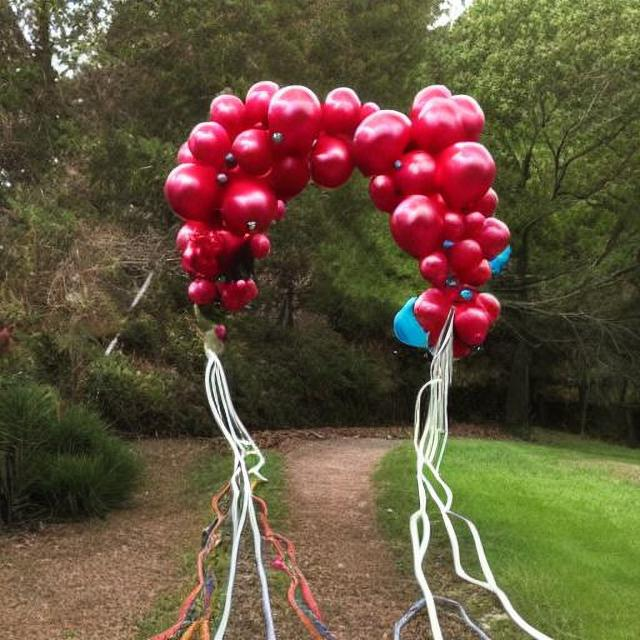balloon: (155, 73, 501, 355)
